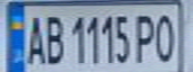1: (100, 11, 118, 64), (66, 11, 84, 64), (84, 11, 100, 64)
5: (112, 10, 133, 64)
A: (21, 10, 48, 65)
B: (42, 10, 66, 65)
O: (151, 9, 181, 64)
P: (133, 10, 160, 64)
